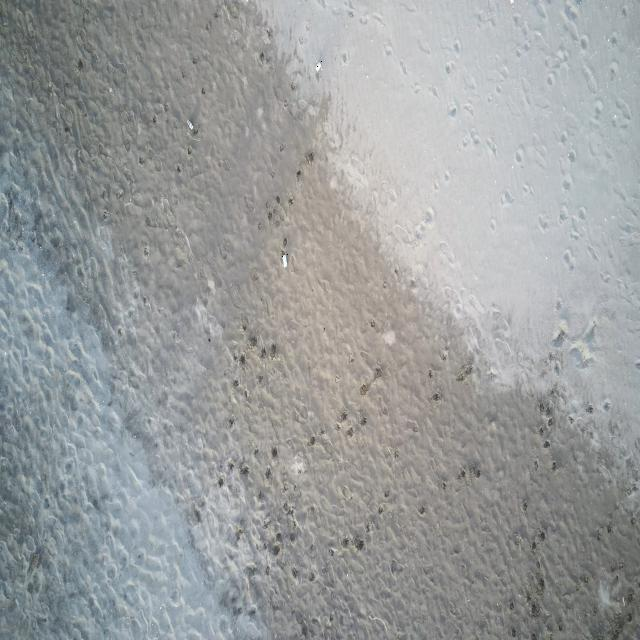tin-and-aluminum-cans: (282, 253, 288, 269), (186, 118, 194, 130), (315, 60, 322, 73)
